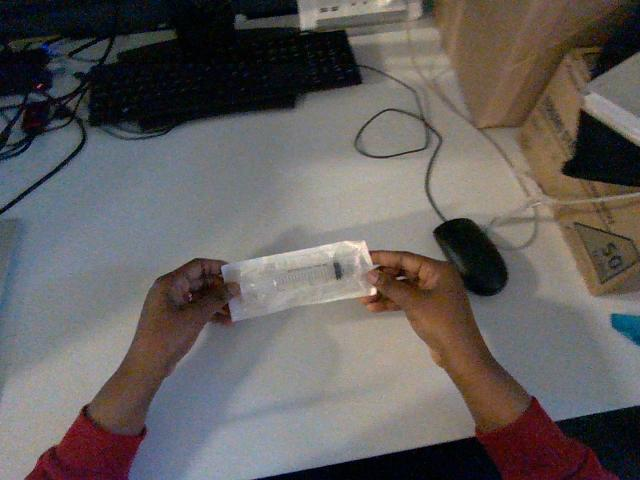syringe: (222, 241, 375, 320)
